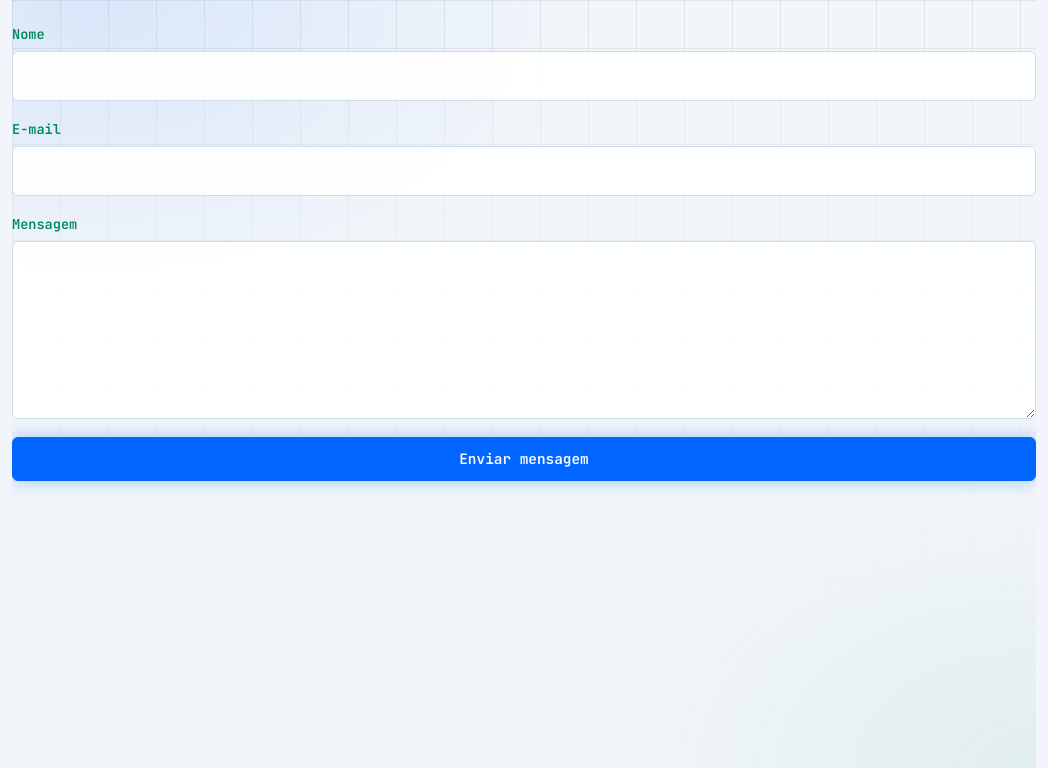
Scenario: ContactForm › mostra uma mensagem de erro por campo ao enviar vazio
Click the button "Enviar mensagem" at (524, 459), box [12,437,1036,481]
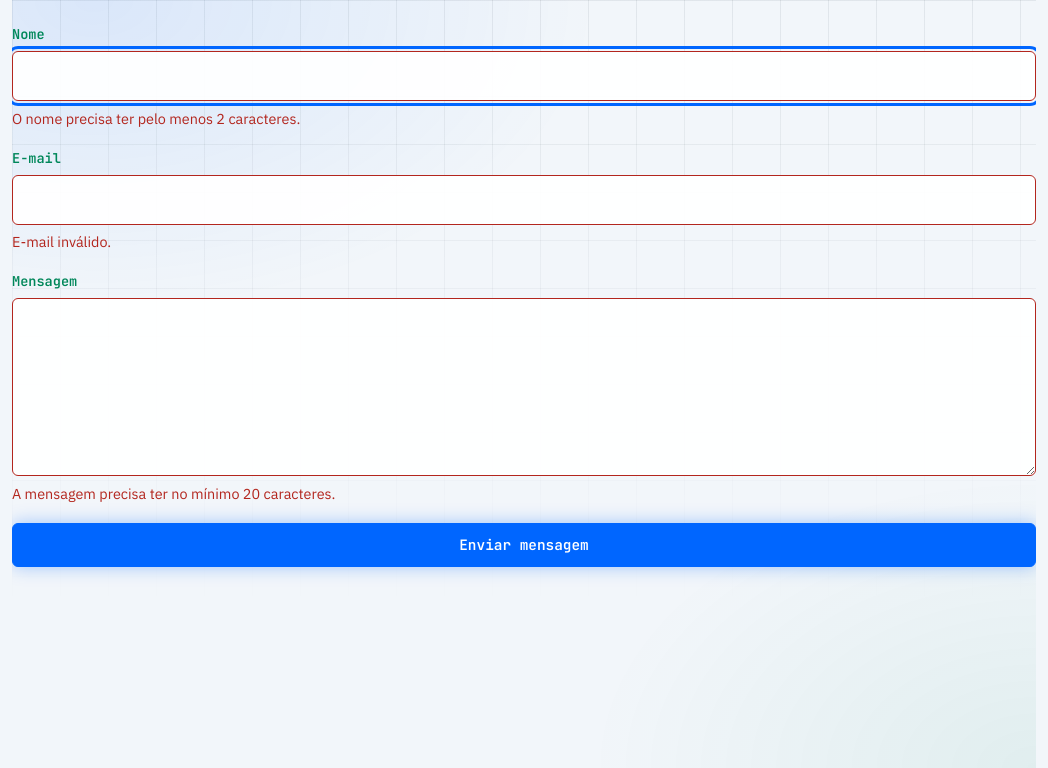
Check: the text "O nome precisa ter pelo menos 2 caracteres." is shown, box [12,109,300,128]
Check: the text "E-mail inválido." is shown, box [12,232,111,252]
Check: the text "A mensagem precisa ter no mínimo 20 caracteres." is shown, box [12,484,336,503]
